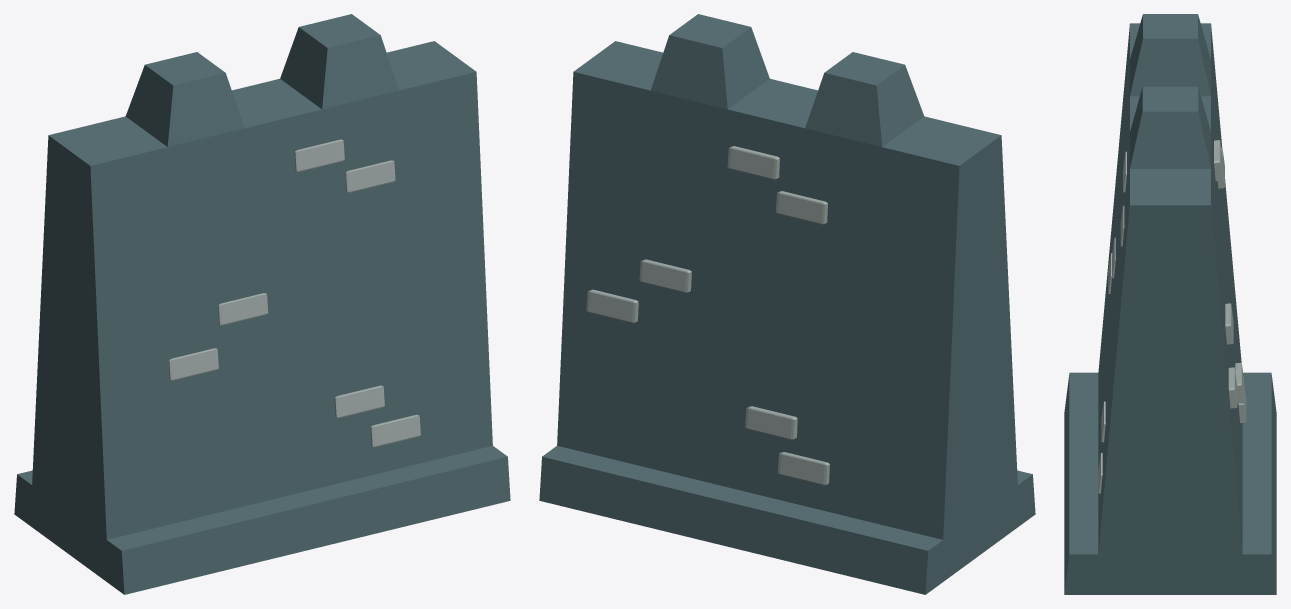
Rendered from aStoneWall.obj.
The picture shows the model from 3 angles, left to right: view 1: azimuth 30°, elevation 25°; view 2: azimuth 150°, elevation 25°; view 3: azimuth 270°, elevation 25°; orthographic projection. The views are drawn at different scales.
Parts seen in each view (by area): view 1: Cube_Cube.006, Cube.006_Cube.019; view 2: Cube_Cube.006, Cube.006_Cube.019; view 3: Cube_Cube.006, Cube.006_Cube.019.
Part boxes in pixels (bbox=[...]): Cube_Cube.006: bbox=[14, 14, 510, 594]; Cube.006_Cube.019: bbox=[169, 139, 420, 447]; Cube_Cube.006: bbox=[539, 14, 1035, 594]; Cube.006_Cube.019: bbox=[586, 146, 829, 485]; Cube_Cube.006: bbox=[1064, 14, 1276, 594]; Cube.006_Cube.019: bbox=[1098, 140, 1246, 493].
Size of the model in its own units: 0.745 by 0.8438 by 0.3678.
